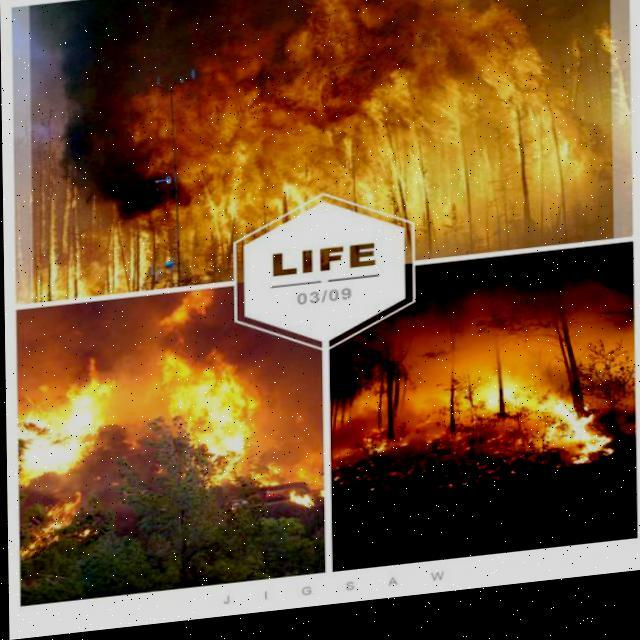Fire: (45, 0, 585, 297), (462, 372, 612, 491), (160, 344, 249, 498), (20, 381, 104, 487)
